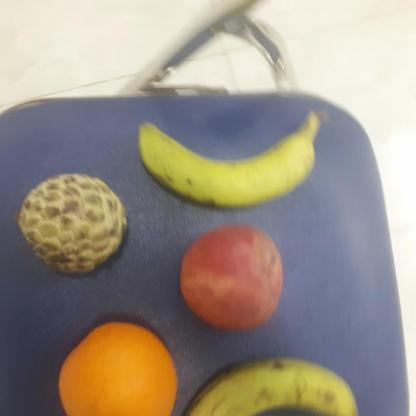annona: (16, 169, 133, 278)
apple: (176, 222, 288, 330)
banana: (135, 110, 330, 207), (176, 352, 361, 416)
orange: (55, 320, 182, 416)
